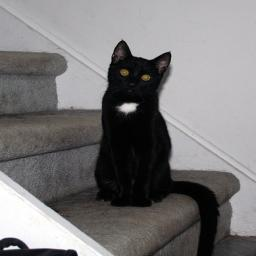catnose: (126, 80, 139, 88)
